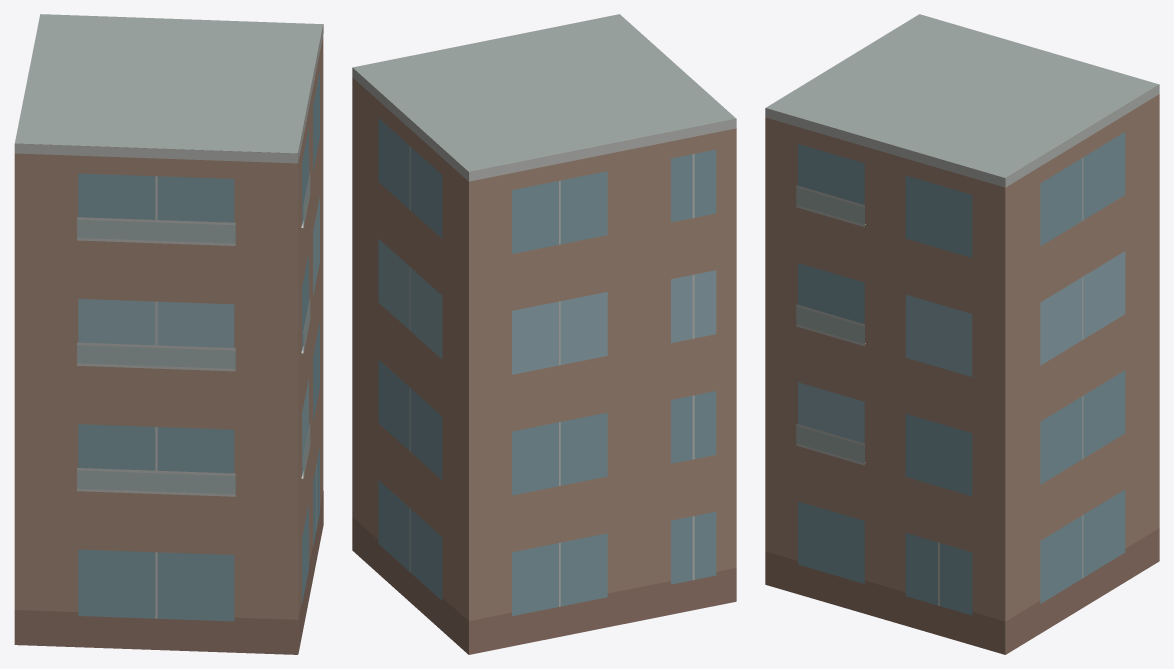
File: residential-12972393-e2d4-406f-8449-6eb935c473c7.glb
3 renders of one model, left to right at view 1: azimuth 30°, elevation 25°; view 2: azimuth 150°, elevation 25°; view 3: azimuth 270°, elevation 25°, orthographic. The views are drawn at different scales.
Visible parts, largest first — view 1: residential-12972393-e2d4-406f-8449-6eb935c473c7.tmp; view 2: residential-12972393-e2d4-406f-8449-6eb935c473c7.tmp; view 3: residential-12972393-e2d4-406f-8449-6eb935c473c7.tmp.
Part boxes in pixels (box(x1,y1,x2,y2)): residential-12972393-e2d4-406f-8449-6eb935c473c7.tmp: box(14, 14, 323, 654); residential-12972393-e2d4-406f-8449-6eb935c473c7.tmp: box(352, 14, 736, 654); residential-12972393-e2d4-406f-8449-6eb935c473c7.tmp: box(765, 14, 1159, 654).
Size of the model in its own units: 9.02 by 12.2 by 9.15.
